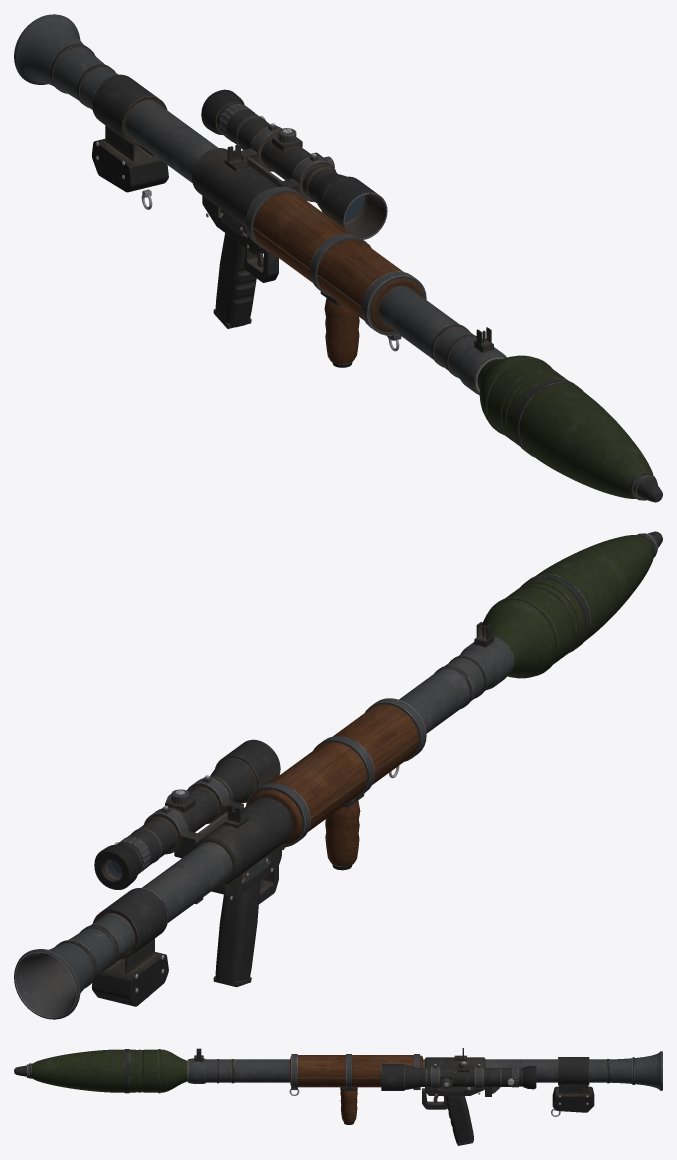
Rendered from rpg.glb.
3 views of the same model, one above another, from view 1: azimuth 30°, elevation 25°; view 2: azimuth 150°, elevation 25°; view 3: azimuth 270°, elevation 25° (orthographic). The views are drawn at different scales.
Parts seen in each view (by area): view 1: mesh_body, mesh_rocket; view 2: mesh_body, mesh_rocket; view 3: mesh_body, mesh_rocket.
Part boxes in pixels (x1,y1,x2,y2): mesh_body: [14, 14, 506, 394]; mesh_rocket: [477, 355, 662, 502]; mesh_body: [14, 622, 513, 1019]; mesh_rocket: [482, 531, 662, 678]; mesh_body: [187, 1048, 662, 1145]; mesh_rocket: [14, 1049, 187, 1093].
Bounding box in the file's own units: 0.1417 × 0.2045 × 1.27.
8 materials, 7 textured.
